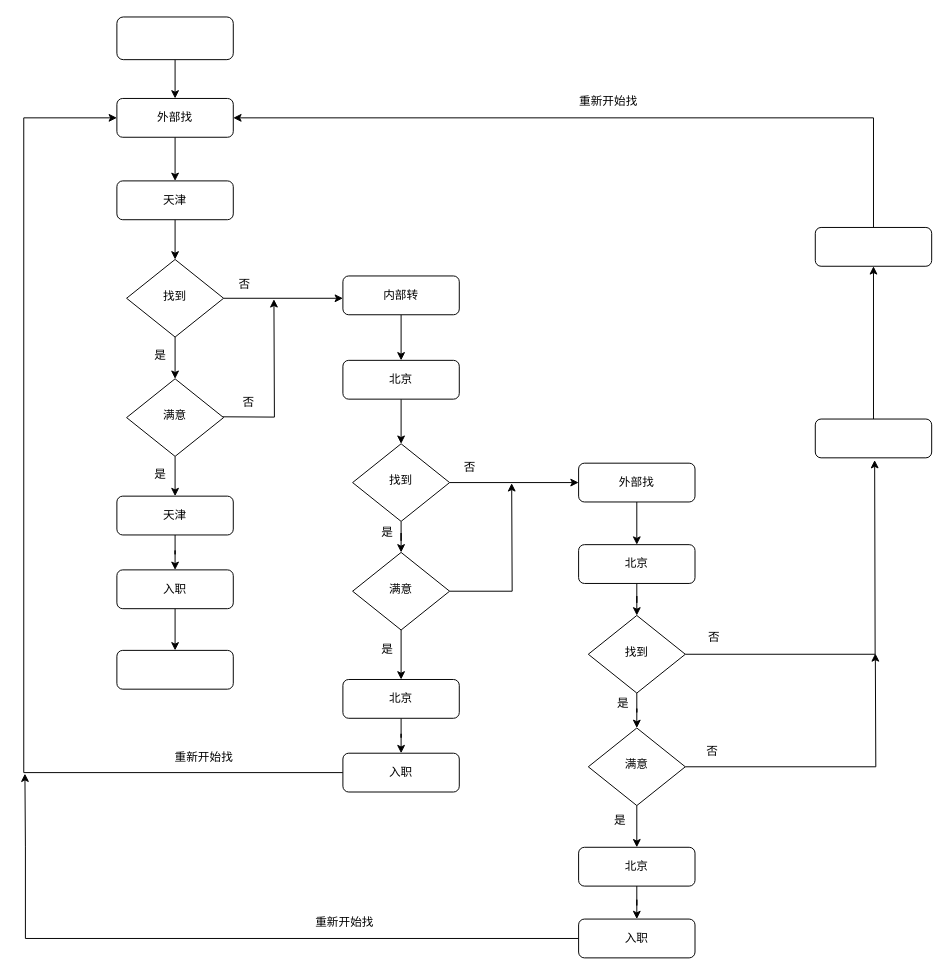
Image size: 949x975. Some labels were removed from this diagram. Each missing label, with the box of its shape:
上海: (814, 226, 932, 266)
开始: (116, 16, 233, 60)
终点: (116, 649, 233, 689)
继续呆着: (814, 418, 932, 458)
